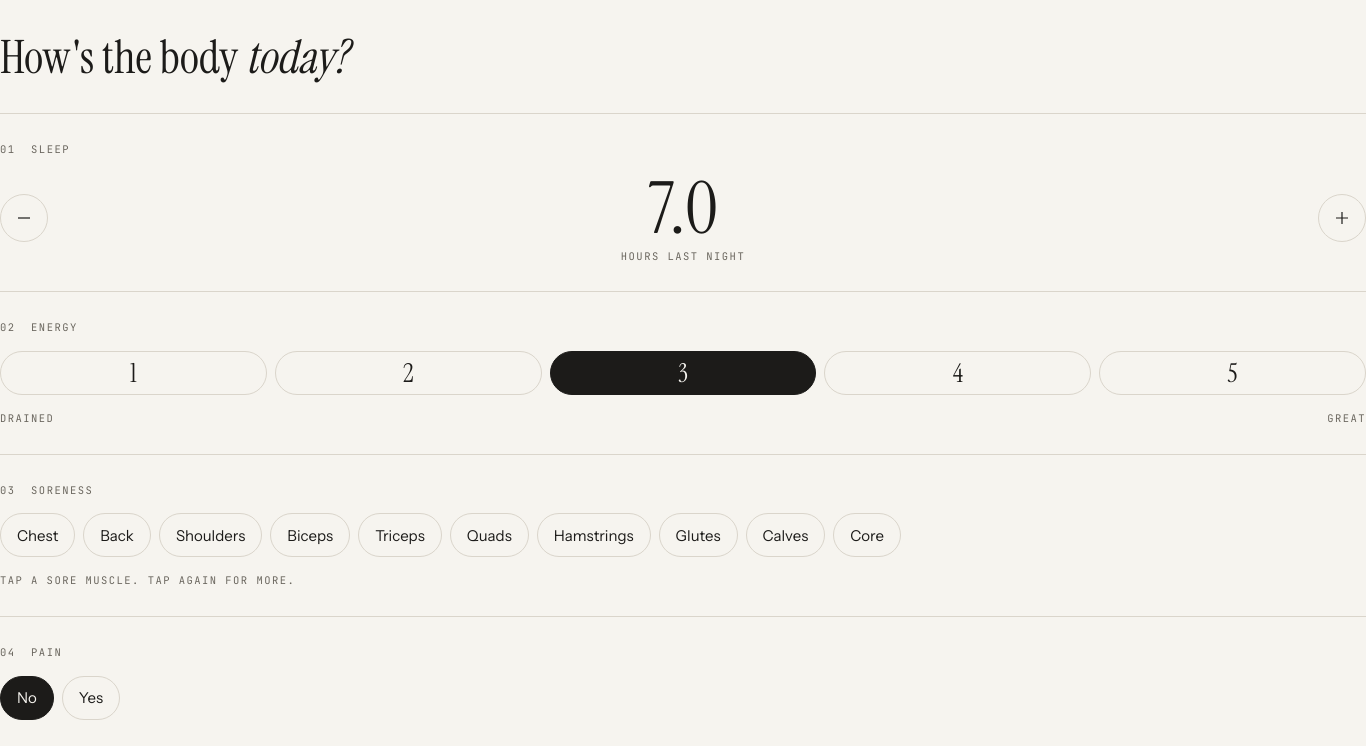
Test: check-in screen › tapping a muscle cycles its soreness and the readiness card follows
This screenshot has width=1366, height=746.
Click the button "Quads": click(489, 535) [450,513,529,557]
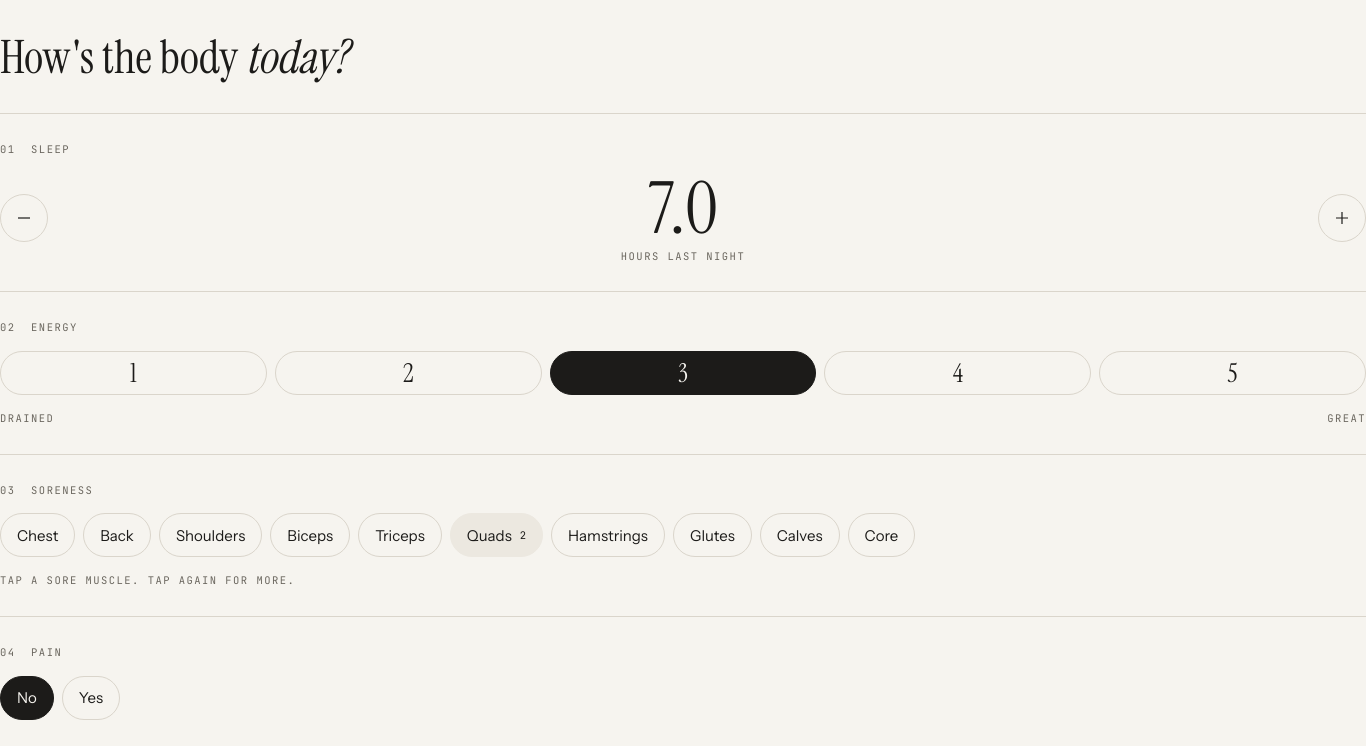
Click the button "Quads 2": click(496, 535) [450,513,543,557]
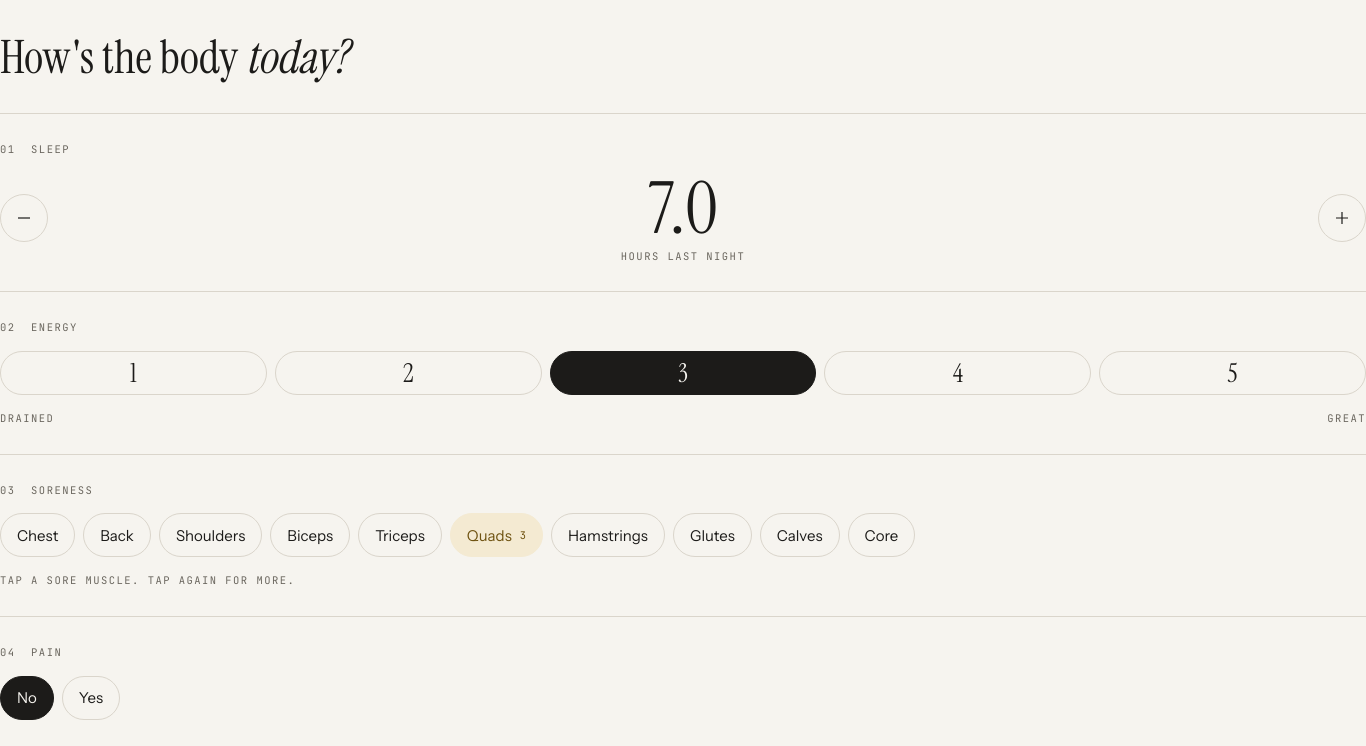
Click the button "Quads 3": click(496, 535) [450,513,543,557]
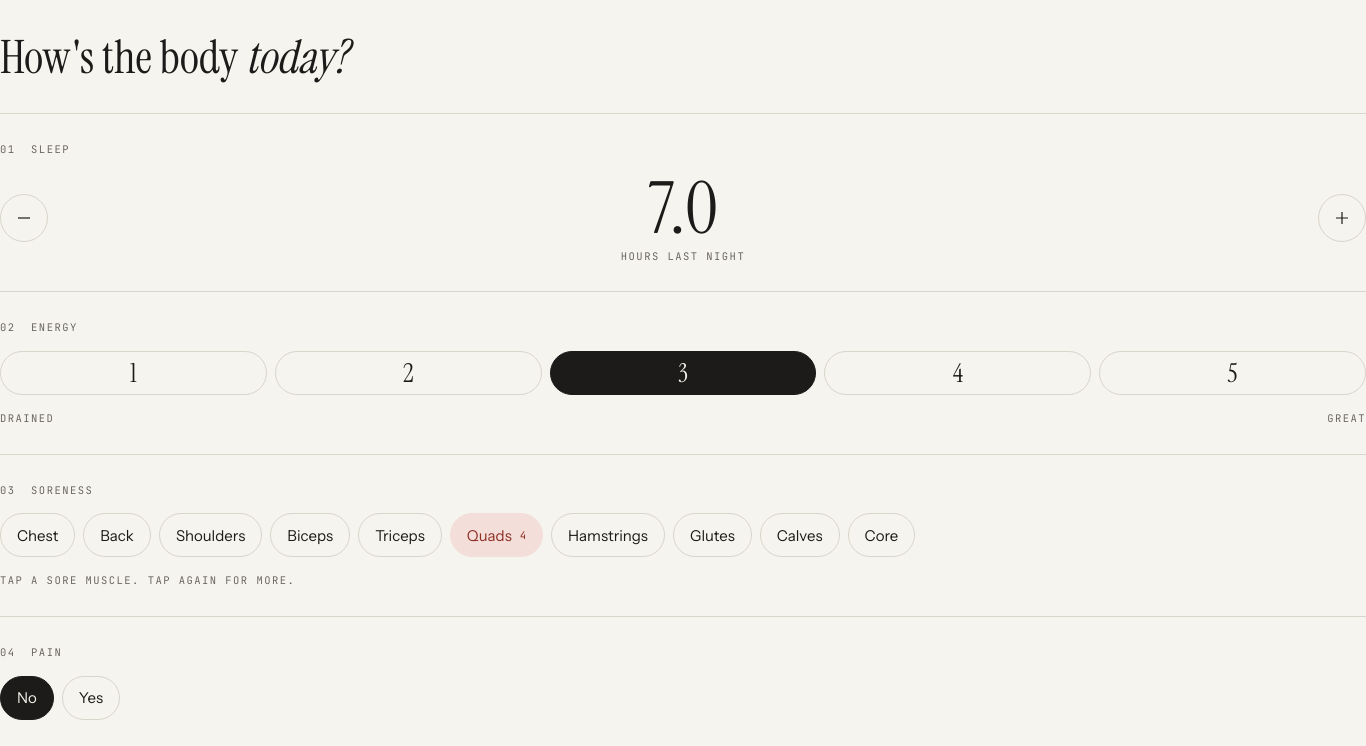
Click the button "Quads 4": click(496, 535) [450,513,543,557]
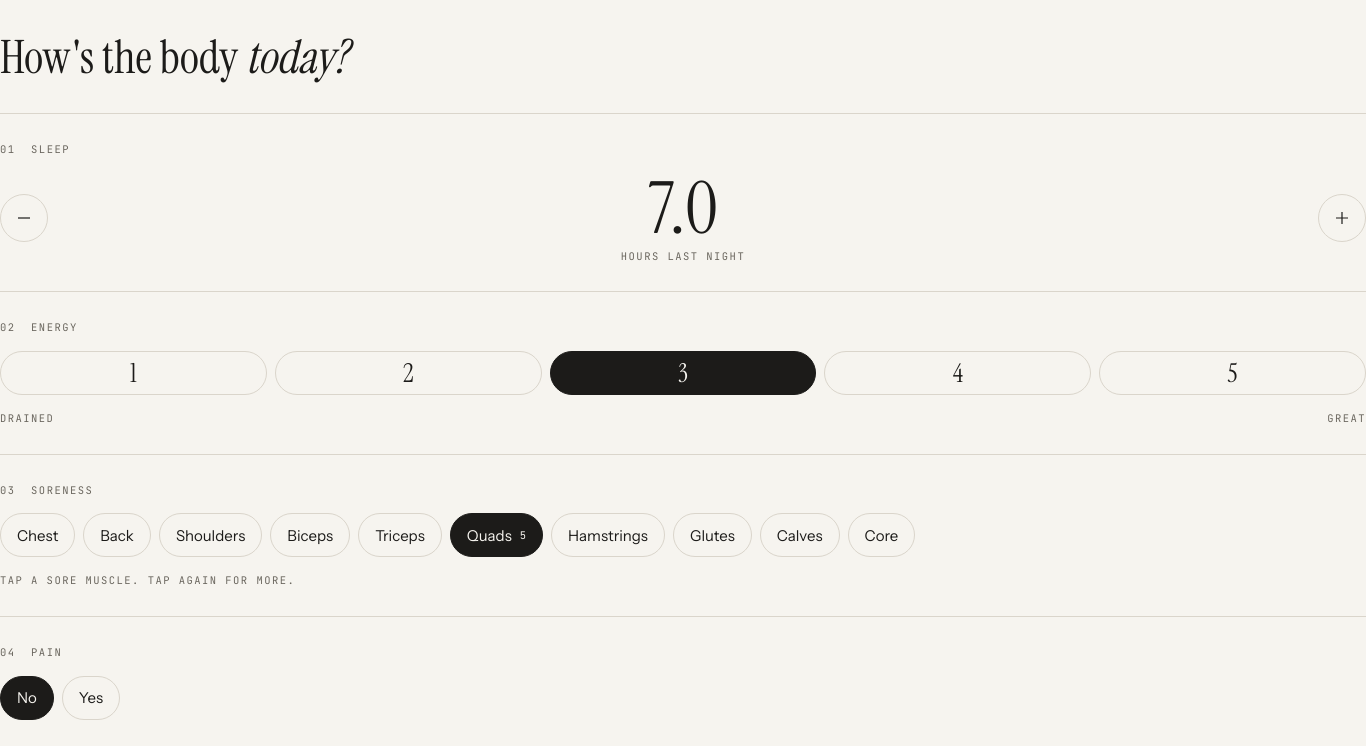
Click the button "Quads 5": click(496, 535) [450,513,543,557]
(page scrolled)
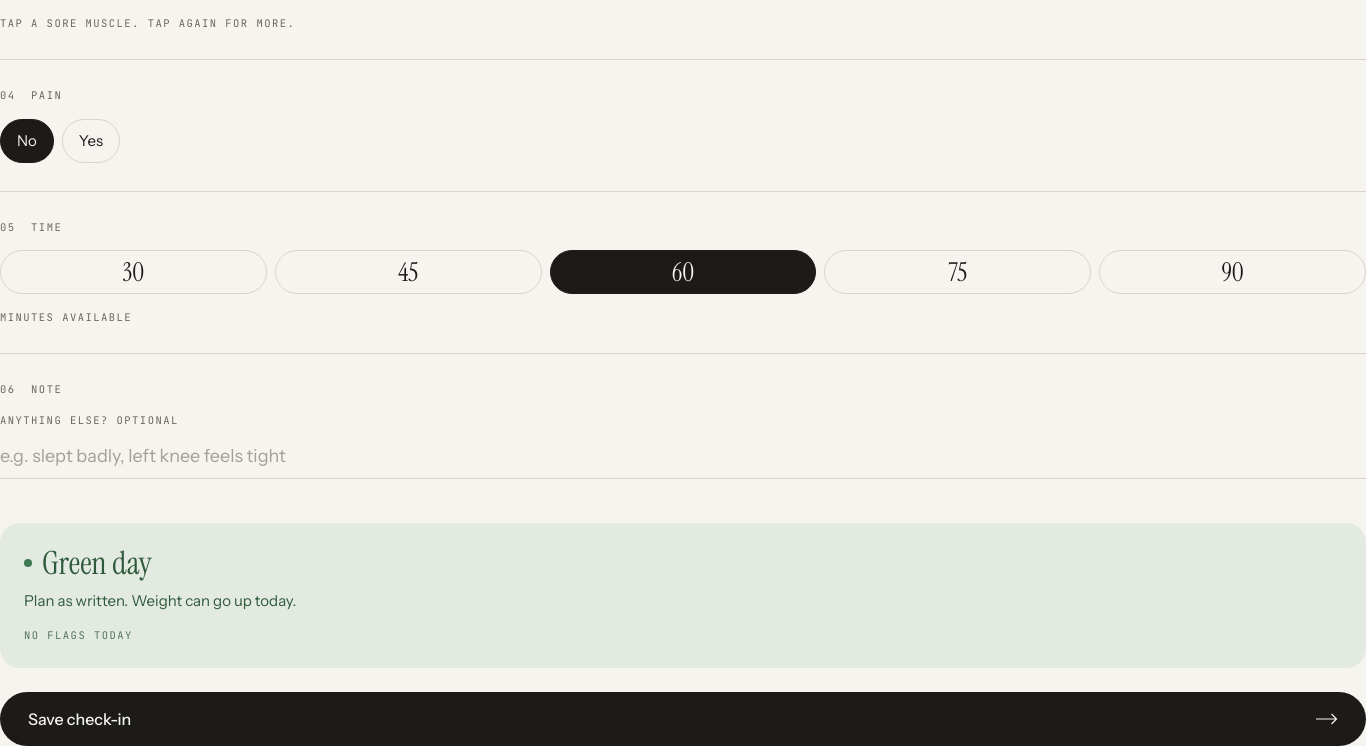
Expected: the text "Green day" is shown, [42,546,152,578]
